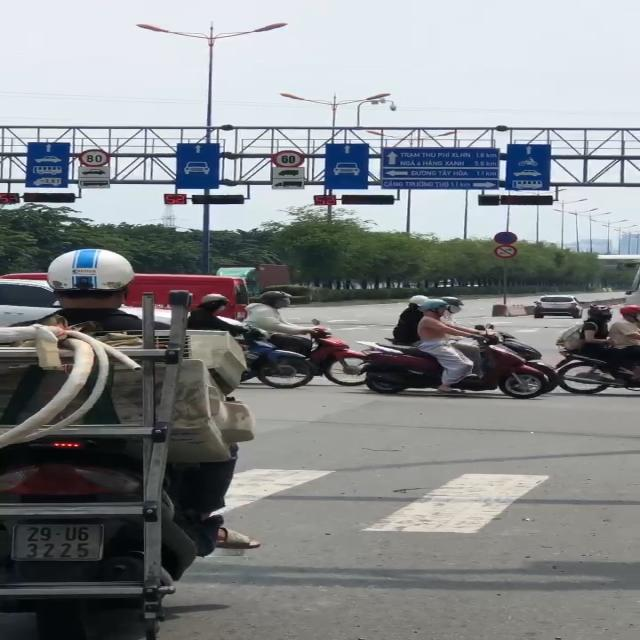Bien bao toc do toi da cho phep: (77, 147, 115, 168), (269, 149, 305, 170)
